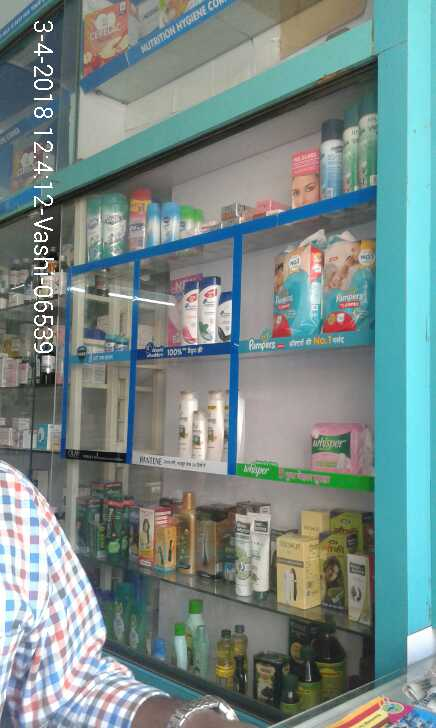vicks: (104, 333, 128, 352)
